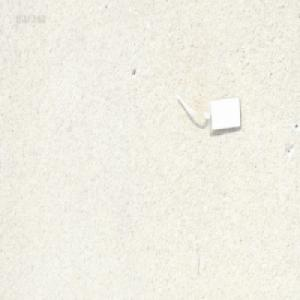LuggageTag: (171, 91, 242, 133)
